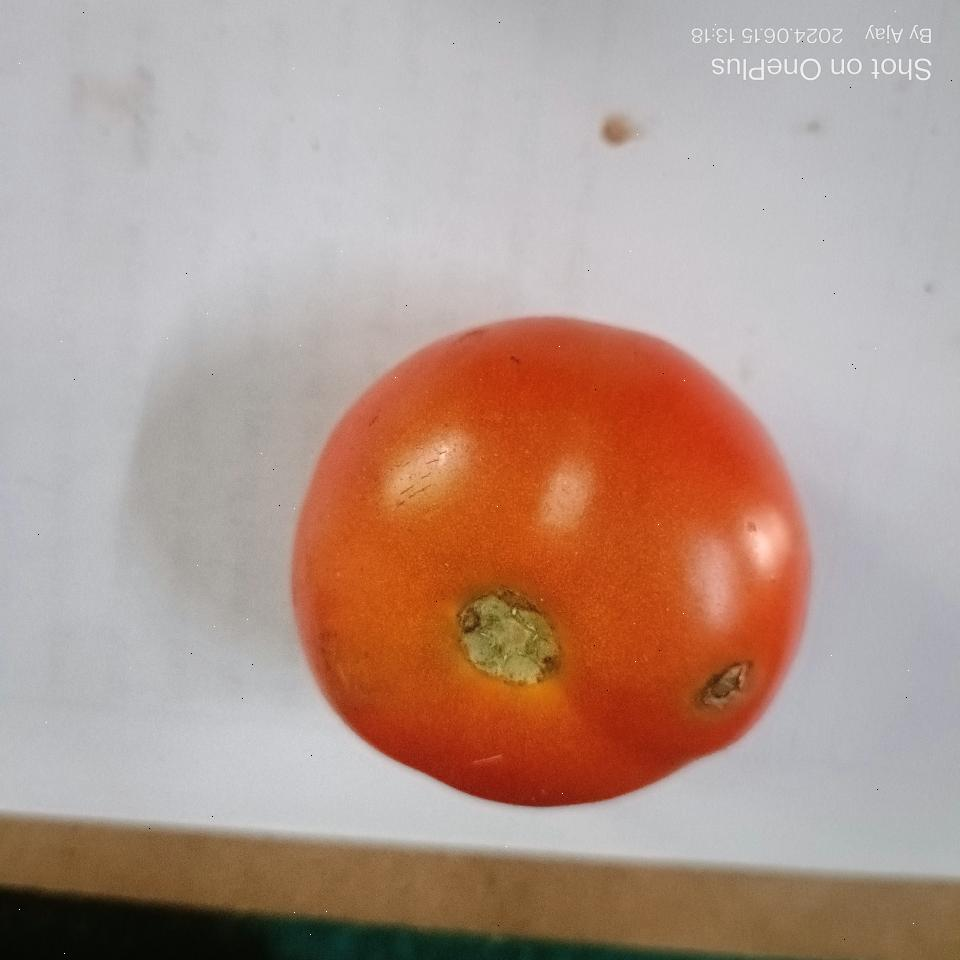Bacterial_Spot: (698, 652, 754, 720)
